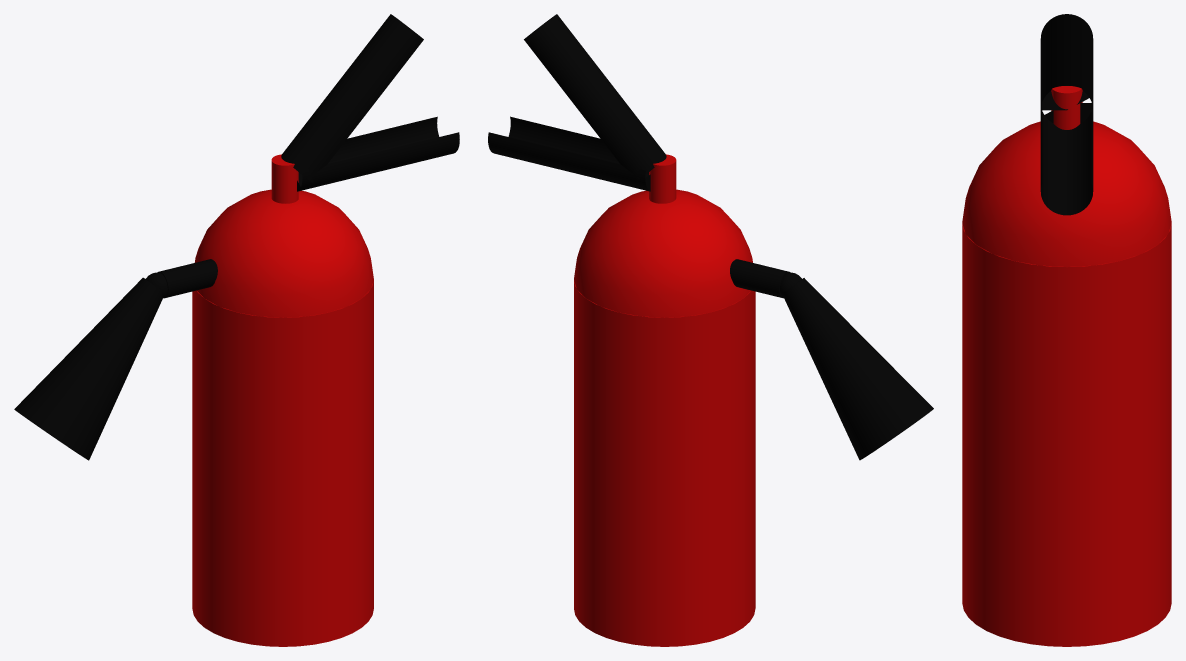
Rendered from Огнетушитель.fbx.
3 renders of one model, left to right at view 1: azimuth 30°, elevation 25°; view 2: azimuth 150°, elevation 25°; view 3: azimuth 270°, elevation 25°, orthographic. The views are drawn at different scales.
Visible parts, largest first — view 1: Объект_Сфера_1, Объект_Конус, Объект_Цилиндр_1, Объект_Цилиндр, Объект_Цилиндр_2, Объект_Цилиндр_3; view 2: Объект_Сфера_1, Объект_Конус, Объект_Цилиндр_1, Объект_Цилиндр, Объект_Цилиндр_2, Объект_Цилиндр_3; view 3: Объект_Сфера_1, Объект_Цилиндр, Объект_Цилиндр_1, Объект_Цилиндр_3.
Part boxes in pixels (box(x1,y1,x2,y2)): Объект_Сфера_1: box(192, 189, 373, 646); Объект_Конус: box(14, 277, 162, 460); Объект_Цилиндр_1: box(281, 14, 423, 182); Объект_Цилиндр: box(297, 116, 459, 191); Объект_Цилиндр_2: box(157, 259, 217, 298); Объект_Цилиндр_3: box(271, 154, 298, 203); Объект_Сфера_1: box(574, 189, 755, 646); Объект_Конус: box(783, 278, 933, 460); Объект_Цилиндр_1: box(524, 14, 666, 182); Объект_Цилиндр: box(488, 116, 650, 191); Объект_Цилиндр_2: box(730, 259, 790, 298); Объект_Цилиндр_3: box(649, 154, 676, 203); Объект_Сфера_1: box(962, 121, 1171, 646); Объект_Цилиндр: box(1040, 103, 1093, 215); Объект_Цилиндр_1: box(1040, 14, 1093, 110); Объект_Цилиндр_3: box(1051, 86, 1082, 129).
Bounding box in the file's own units: 109 × 137 × 40.
